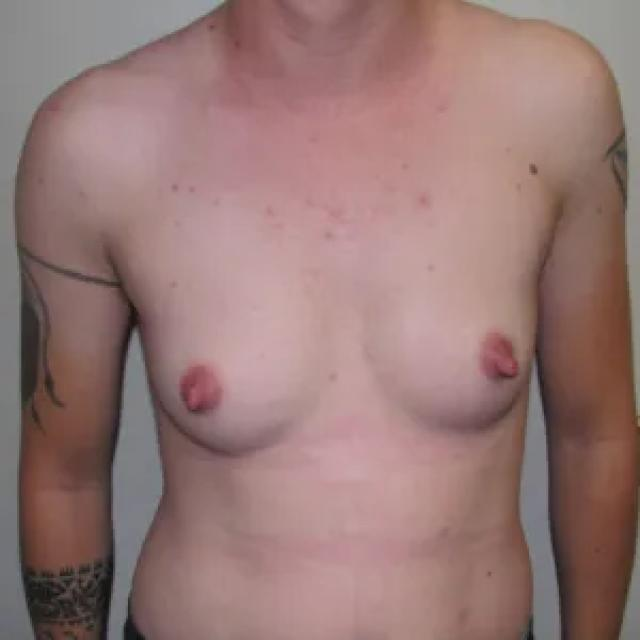Seno ileso: (136, 264, 344, 476), (348, 239, 544, 452)
